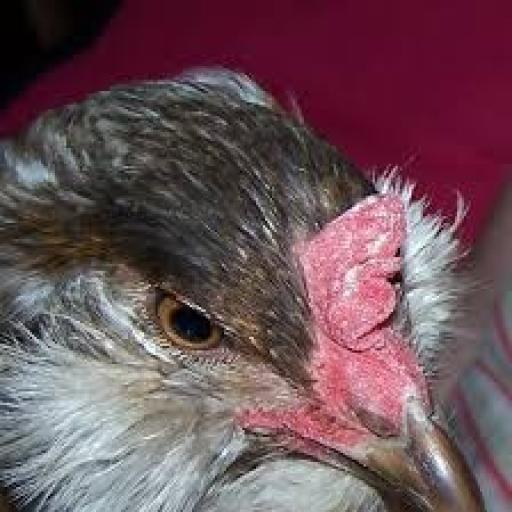disease: (306, 194, 430, 356)
